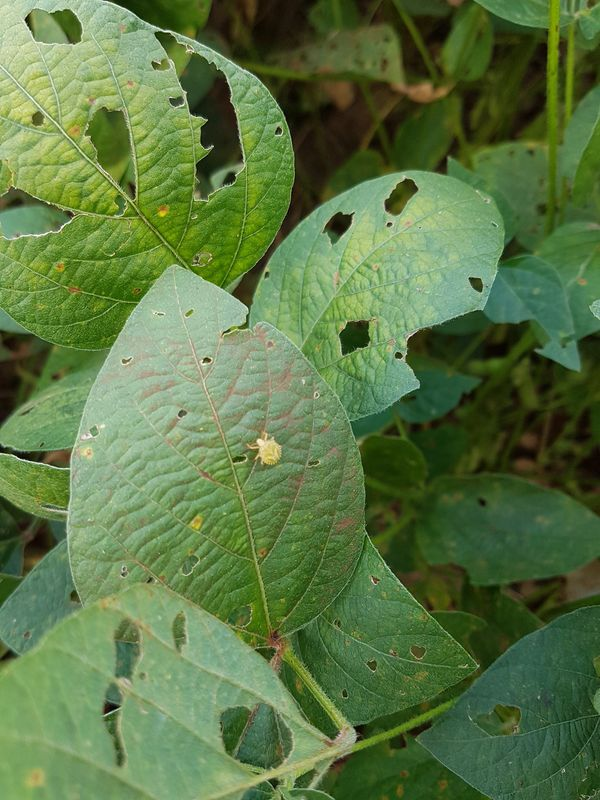Euschistus_heros_ninfa: (240, 424, 288, 473)
